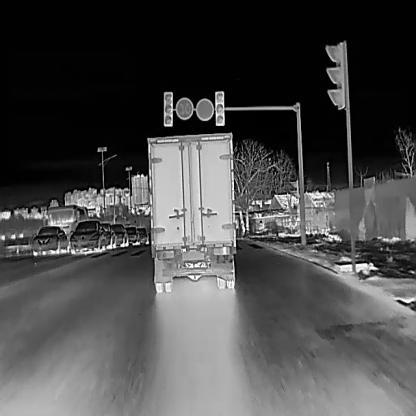car: (146, 132, 237, 293), (42, 203, 90, 254), (68, 219, 107, 254), (31, 225, 70, 255), (99, 221, 116, 249), (110, 222, 129, 247), (123, 224, 140, 245), (135, 225, 149, 245)
